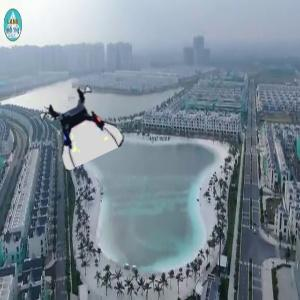drone: (43, 89, 117, 163)
